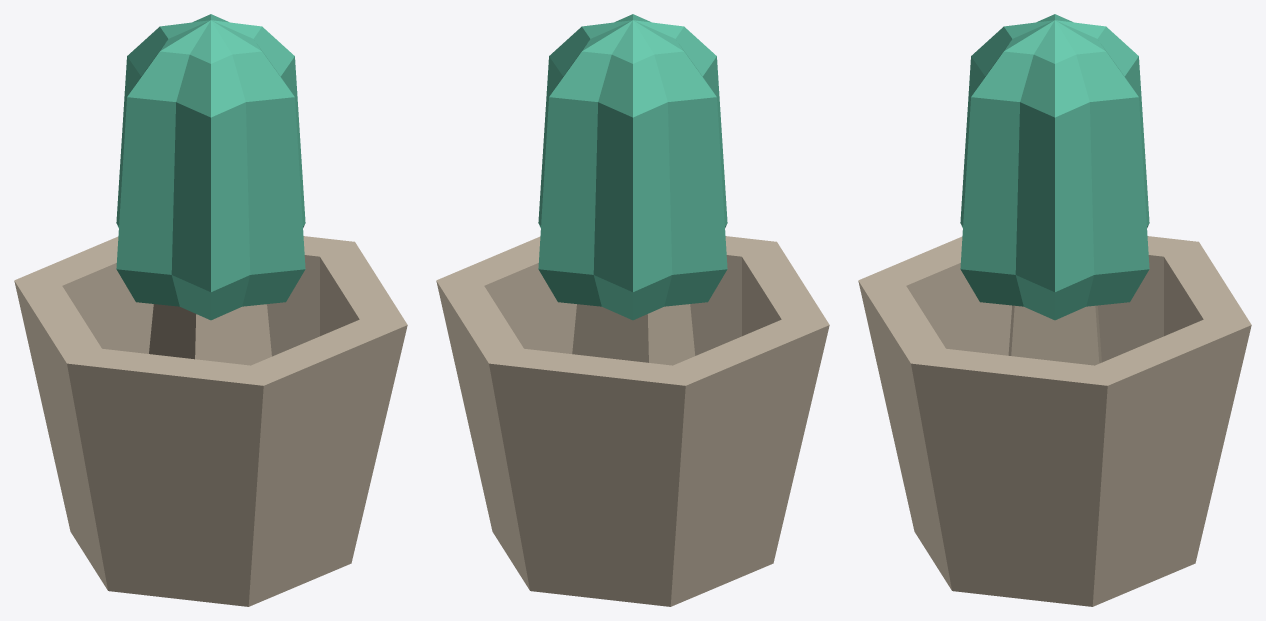
File: plant_pot_c.glb
The picture shows the model from 3 angles, left to right: view 1: azimuth 30°, elevation 25°; view 2: azimuth 150°, elevation 25°; view 3: azimuth 270°, elevation 25°; orthographic projection.
Visible parts, largest first — view 1: plant_pot_c; view 2: plant_pot_c; view 3: plant_pot_c.
Boxes of the visible parts, left/top/right/bottom form: plant_pot_c: left=14, top=14, right=407, bottom=606; plant_pot_c: left=436, top=14, right=829, bottom=606; plant_pot_c: left=858, top=14, right=1251, bottom=606.
Size of the model in its own units: 21.64 by 32 by 21.64.
